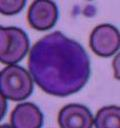E: (27, 32, 90, 96)
